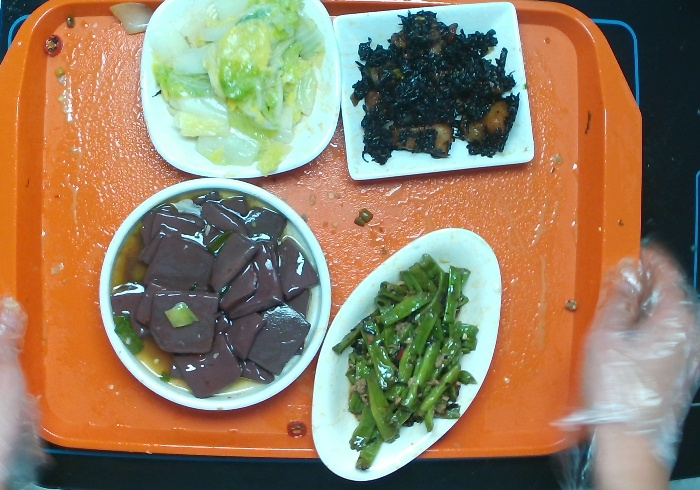HZYJPL-Si_Fang_Die: (328, 1, 540, 186)
HZYJPL-Si_Fang_Yuan_Die: (135, 1, 344, 185)
HZYJPL-Xiao_Yu_Die: (307, 223, 505, 488)
HZYJPL-Xiao_Yuan_Die: (91, 171, 334, 413)
